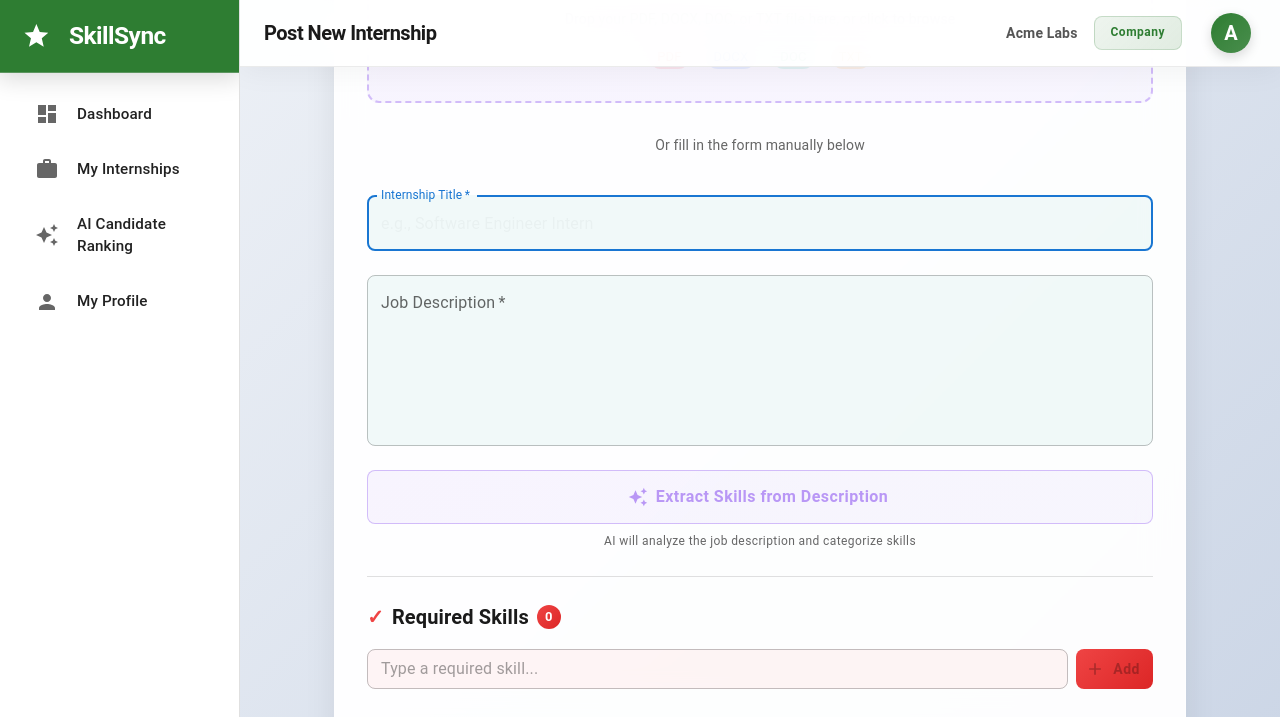
extraction waits for a description
(page scrolled)
Expected: the button "Extract Skills from Description" is disabled, [367,470,1153,524]
Type "Build FastAPI services in Python, review pull requests and ship features every week." into the text box labelled "Job Description *" at (760, 360), box [381,292,1139,430]
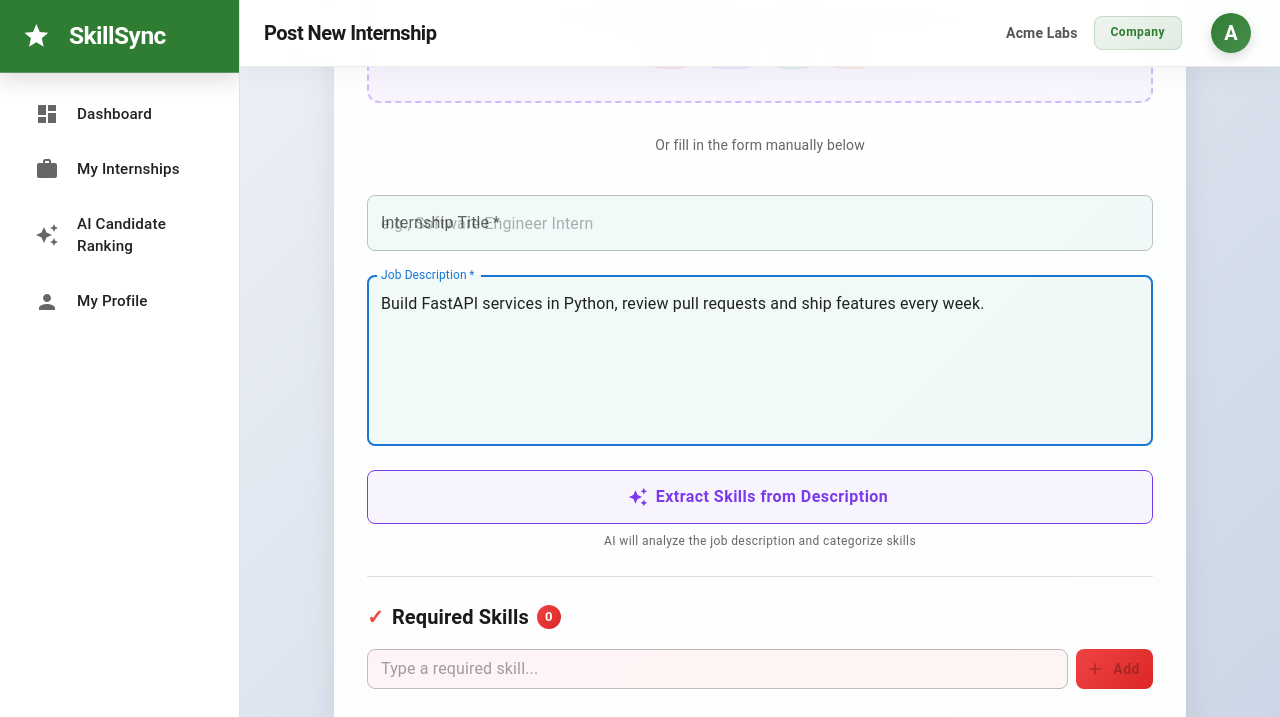
Result: the button "Extract Skills from Description" is enabled at [367,470,1153,524]
